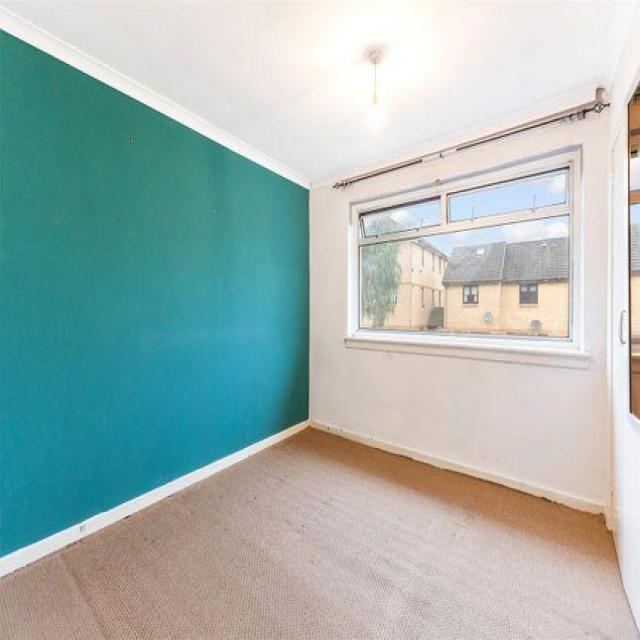Wall: (0, 30, 309, 558), (0, 428, 637, 639), (310, 116, 610, 513), (0, 1, 635, 179), (611, 0, 640, 132), (625, 435, 640, 629)
